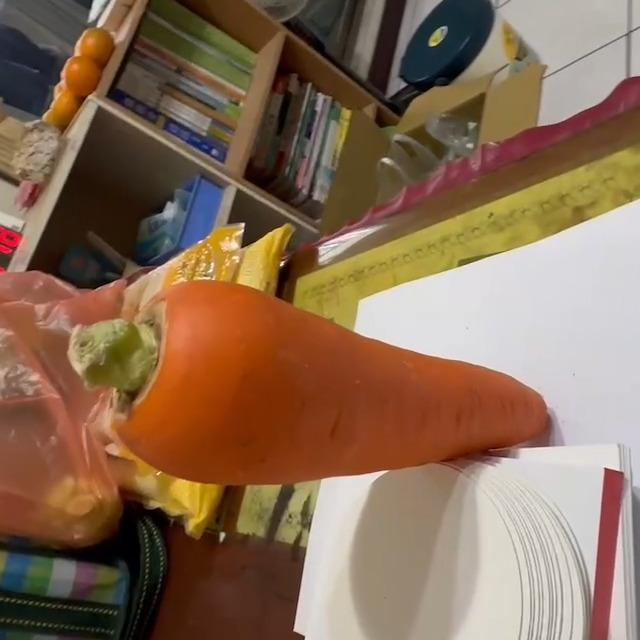carrot: (65, 277, 553, 489)
